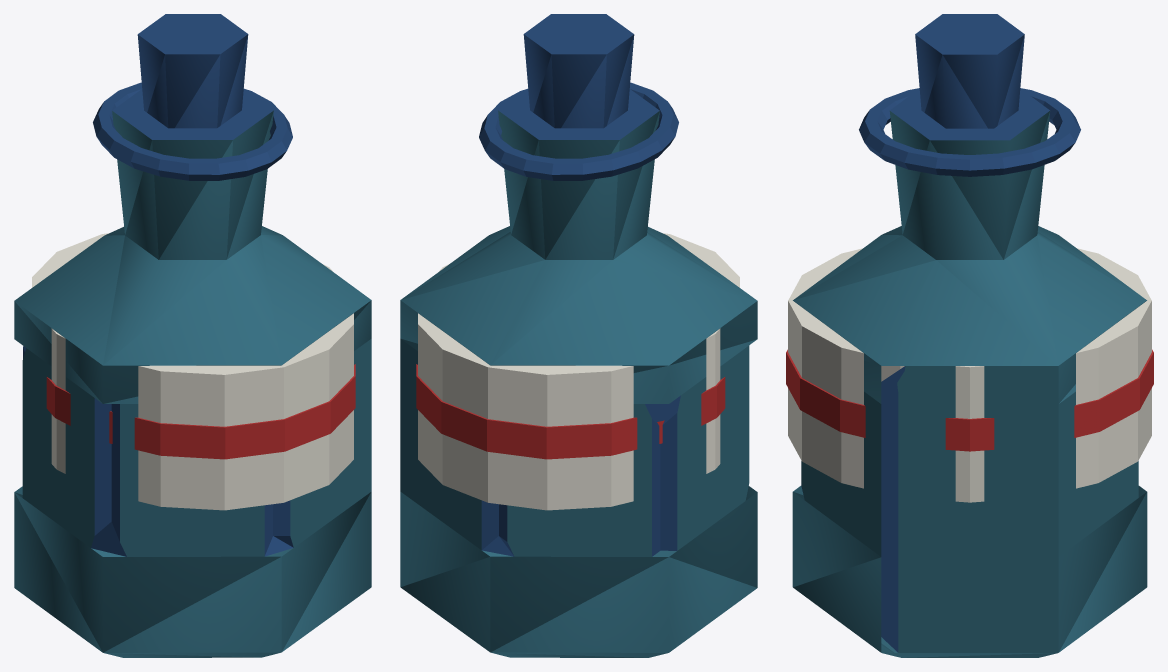
Rendered from bottle-large.glb.
3 views of the same model, side by side, from view 1: azimuth 30°, elevation 25°; view 2: azimuth 150°, elevation 25°; view 3: azimuth 270°, elevation 25° (orthographic).
Visible parts, largest first — view 1: bottle-large; view 2: bottle-large; view 3: bottle-large.
Boxes of the visible parts, x1=… form: bottle-large: x1=14, y1=14, x2=371, y2=657; bottle-large: x1=400, y1=14, x2=757, y2=657; bottle-large: x1=786, y1=14, x2=1153, y2=657.
Size of the model in its own units: 0.0724 by 0.1439 by 0.0837.
